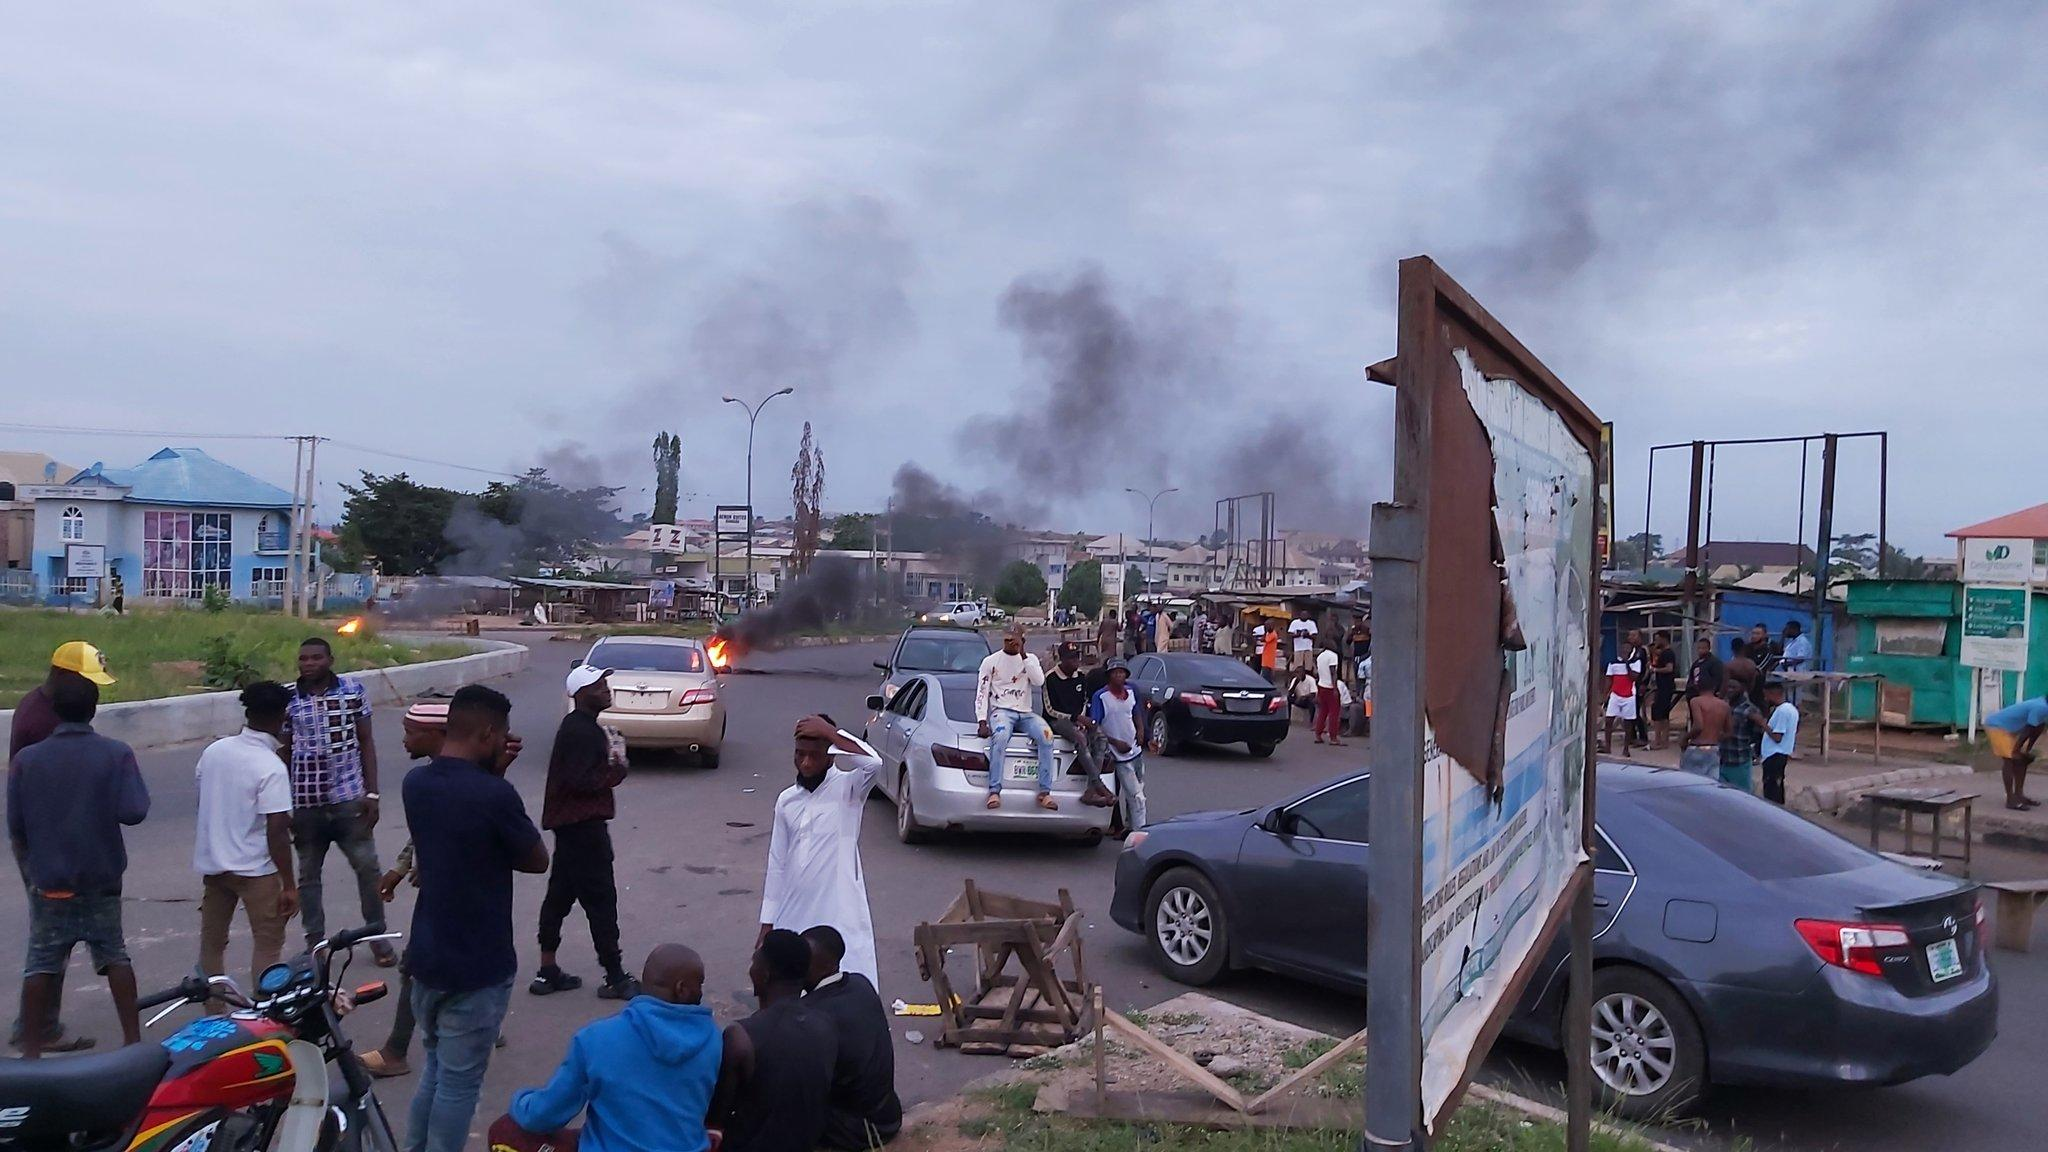fire: (705, 641, 726, 670), (338, 619, 360, 637)
smoke: (1461, 28, 1954, 293), (973, 256, 1371, 546), (589, 187, 923, 428), (367, 439, 640, 630), (729, 550, 914, 646), (868, 461, 972, 546), (923, 547, 1011, 582)
